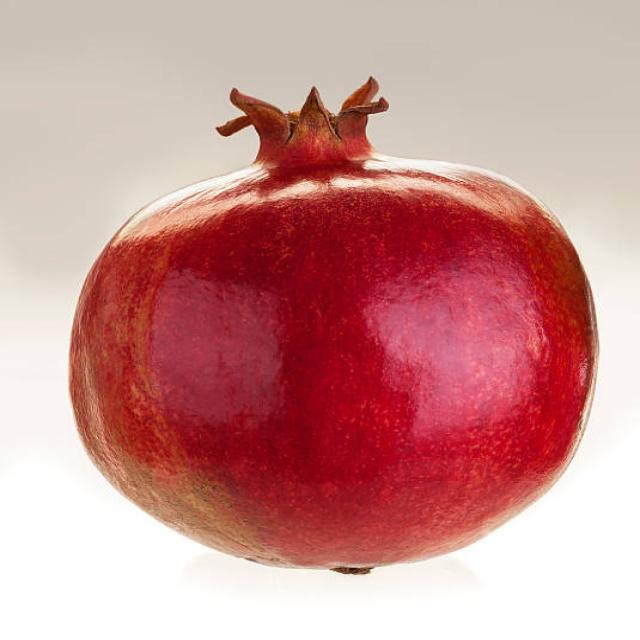Ripe: (60, 68, 604, 577)
